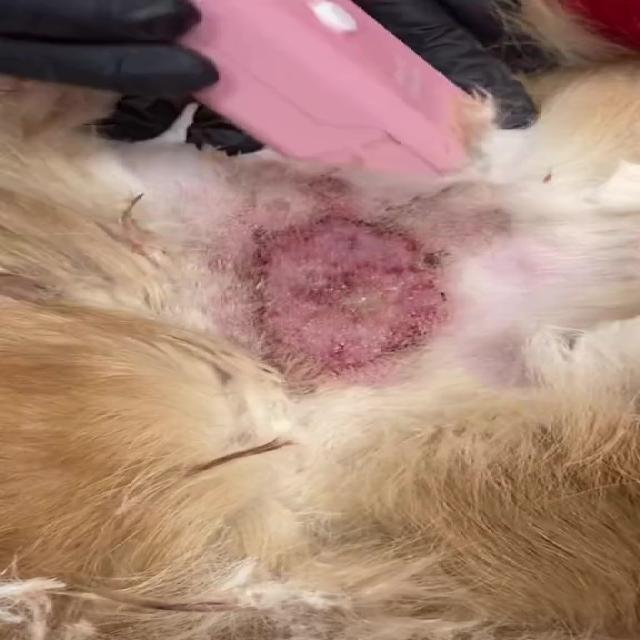hac lao: (162, 165, 514, 432)
